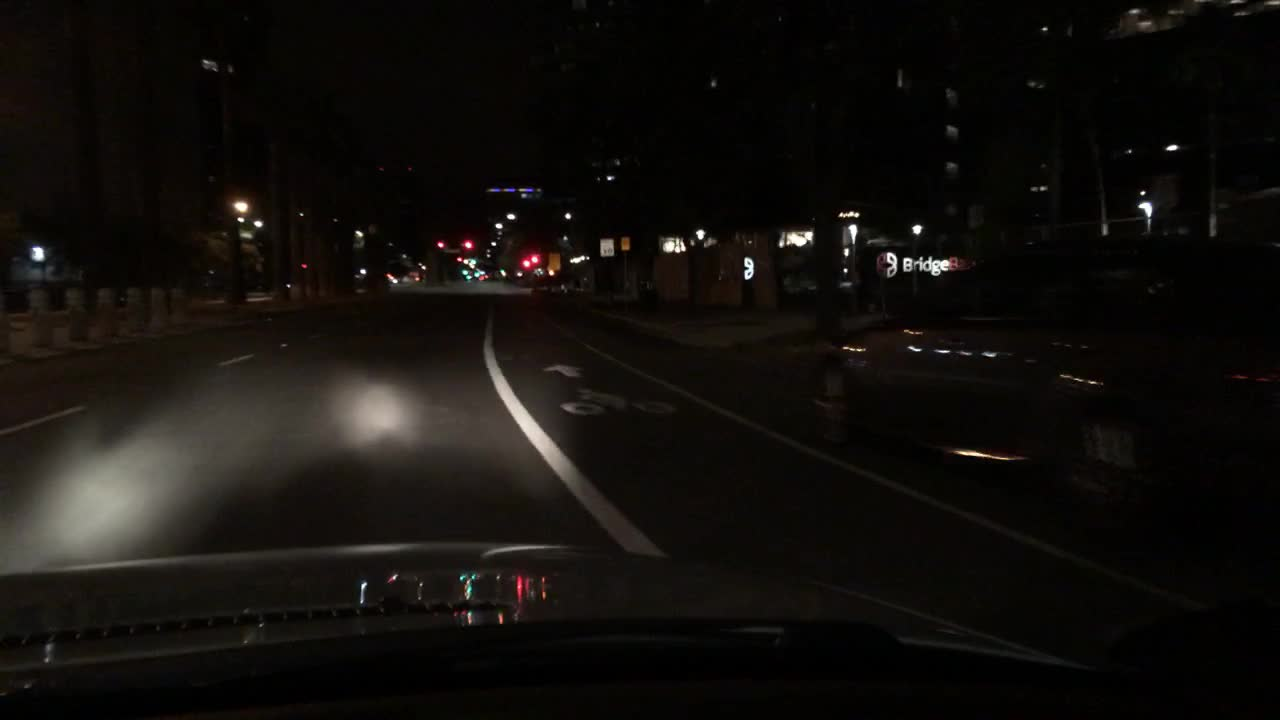car: (807, 253, 1280, 517), (526, 275, 572, 301), (358, 264, 398, 289), (404, 267, 426, 284)
traffic light: (529, 250, 540, 266), (463, 236, 473, 252), (434, 238, 443, 252)
traffic sign: (598, 238, 613, 255), (619, 235, 632, 250)
